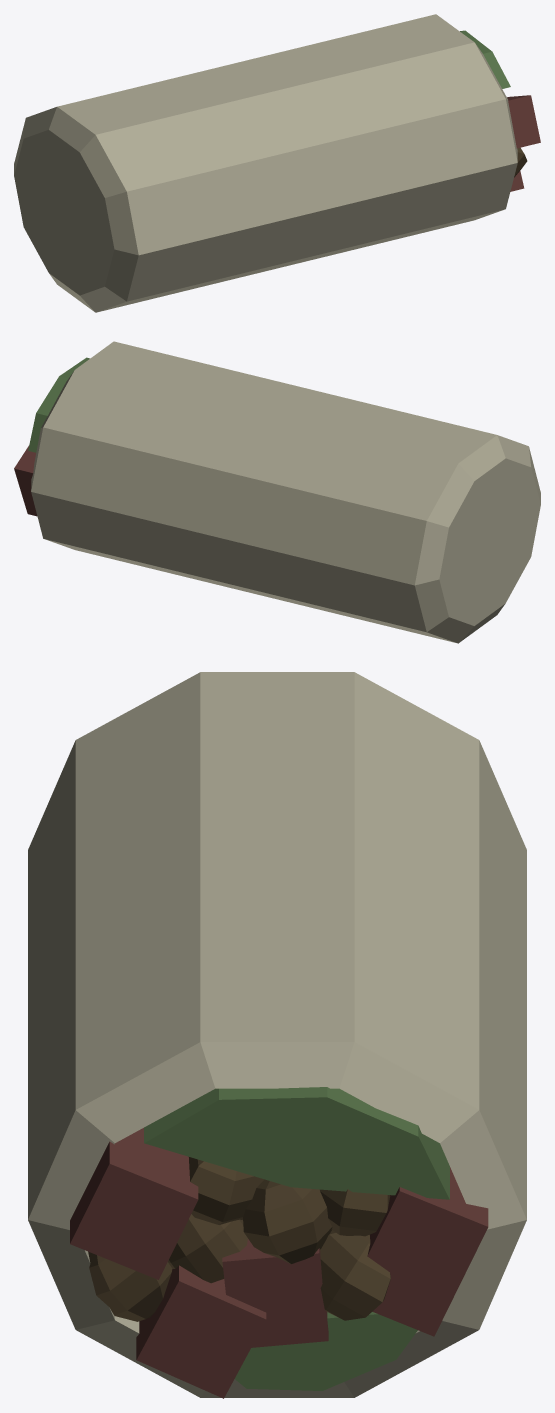
File: Burrito.fbx
The picture shows the model from 3 angles, top to bottom: view 1: azimuth 30°, elevation 25°; view 2: azimuth 150°, elevation 25°; view 3: azimuth 270°, elevation 25°; orthographic projection. The views are drawn at different scales.
Visible parts, largest first — view 1: Burrit0; view 2: Burrit0; view 3: Burrit0.
Part boxes in pixels (<box>): Burrit0: <box>14,14,540,312</box>; Burrit0: <box>14,341,540,643</box>; Burrit0: <box>28,672,526,1398</box>.
Bounding box in the file's own units: 24.53 × 9.73 × 12.37.
